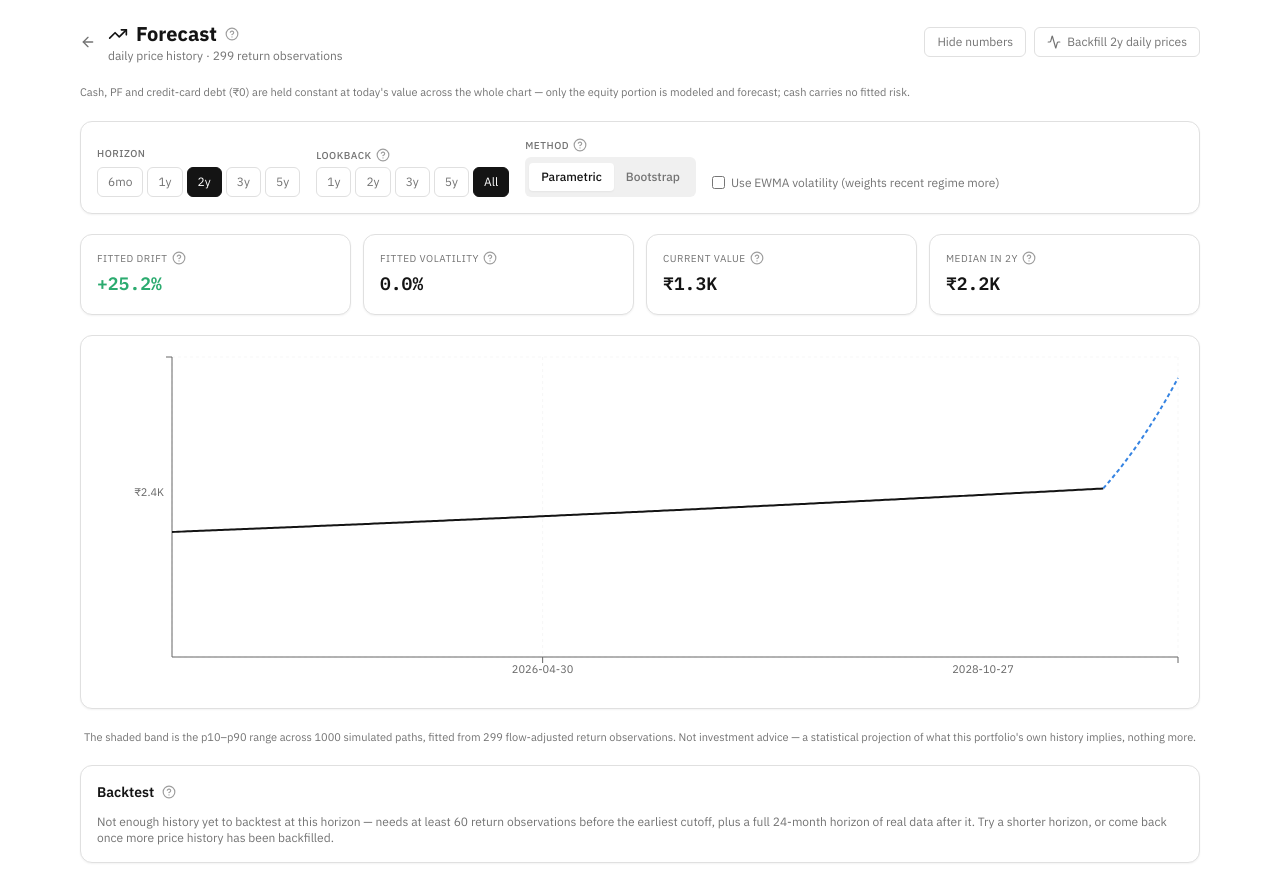
Scenario: Forecast page › renders backtest coverage stats and a fold table once there is enough history for the selected horizon
Click the button "6mo". click: (120,182)
box: top-left (97, 166), bottom-right (143, 196)
(page scrolled)
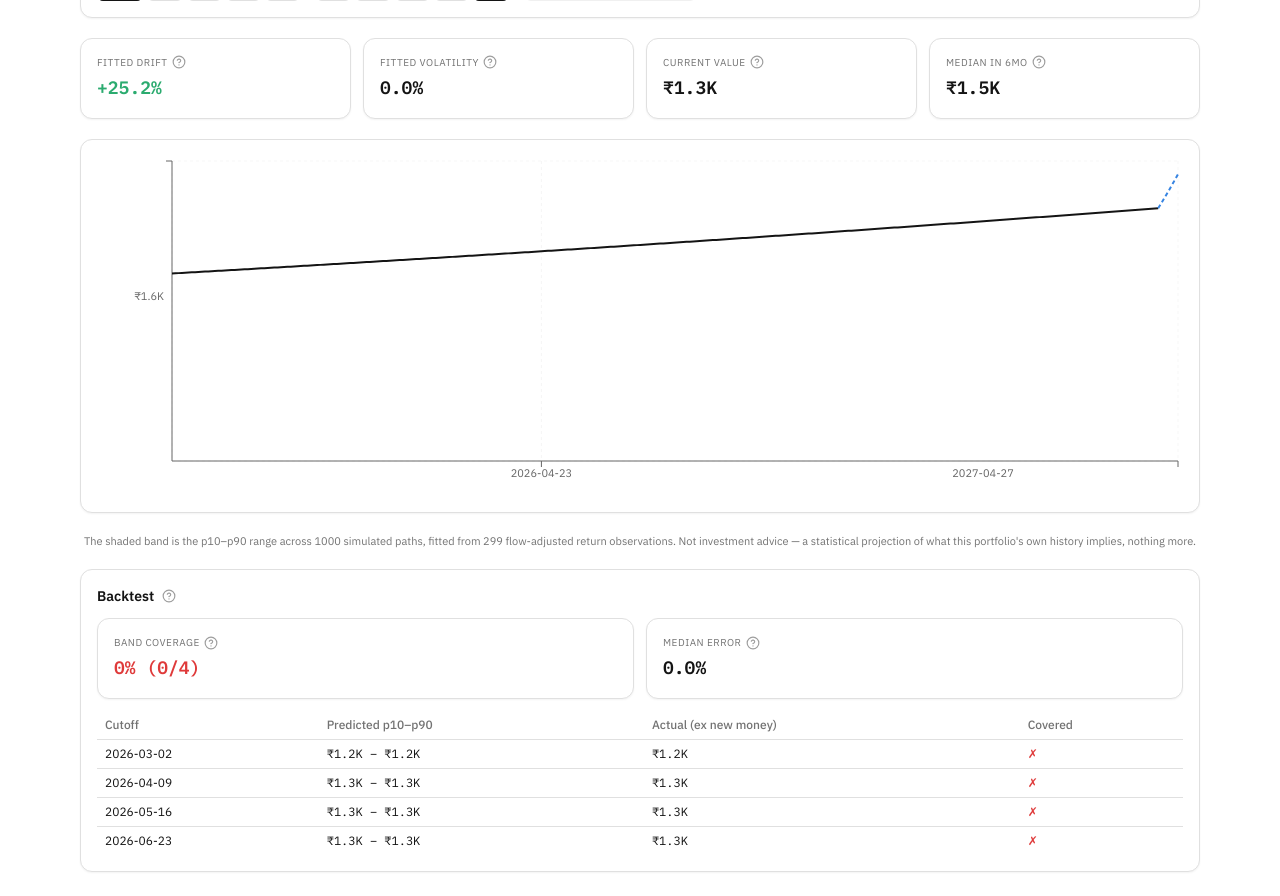
Now the text "Band Coverage" is shown, box top-left (114, 635), bottom-right (218, 650)
Now the text "Median Error" is shown, box top-left (663, 635), bottom-right (760, 650)
Now the column heading "Predicted p10–p90" is shown, box top-left (319, 711), bottom-right (644, 740)
